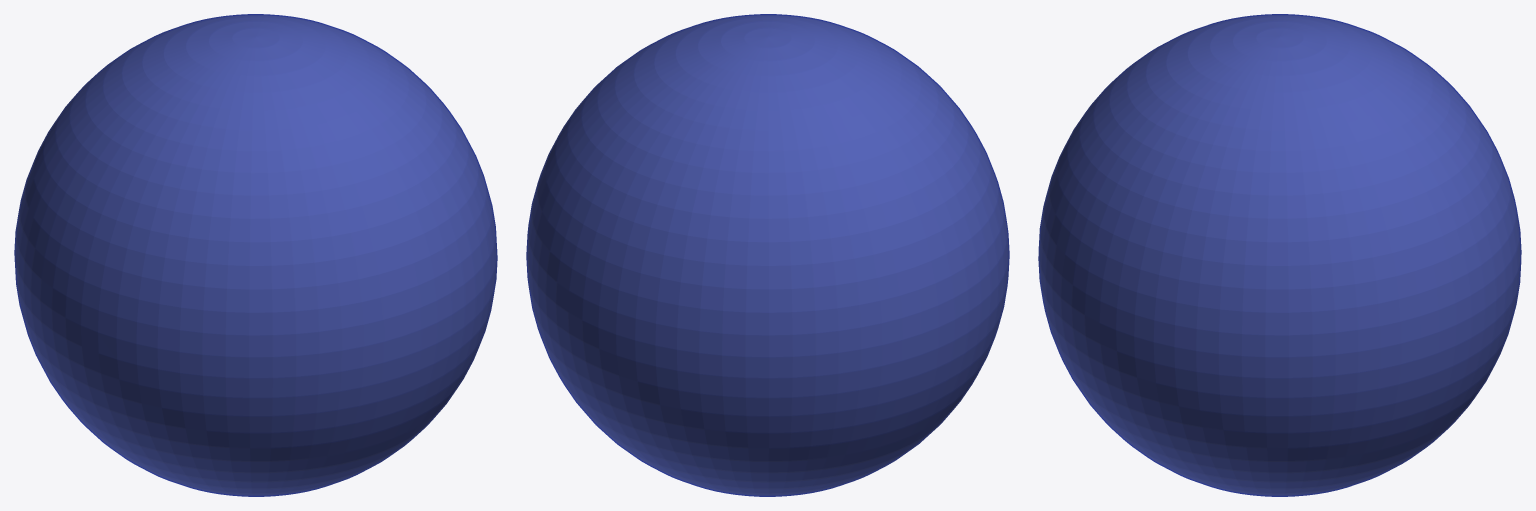
The model's file is Earth.obj.
The picture shows the model from 3 angles, left to right: view 1: azimuth 30°, elevation 25°; view 2: azimuth 150°, elevation 25°; view 3: azimuth 270°, elevation 25°; orthographic projection.
Parts seen in each view (by area): view 1: Earth.002, Earth.001; view 2: Earth.002, Earth.001; view 3: Earth.002, Earth.001.
Part boxes in pixels (x1,y1,x2,y2): Earth.002: (14,14,497,496); Earth.001: (16,15,495,495); Earth.002: (526,14,1009,496); Earth.001: (527,15,1008,495); Earth.002: (1038,14,1521,496); Earth.001: (1040,15,1519,495).
Size of the model in its own units: 2.03 by 2.03 by 2.03.
